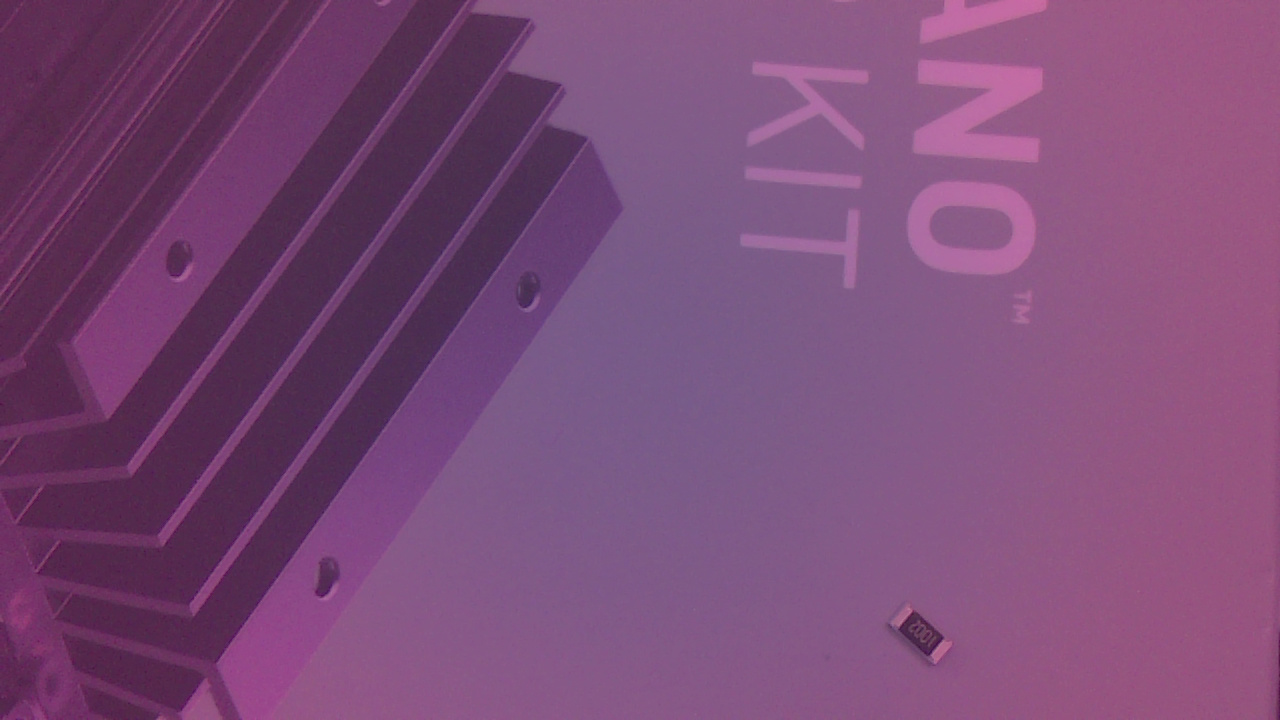Resistor: (884, 602, 964, 676)
